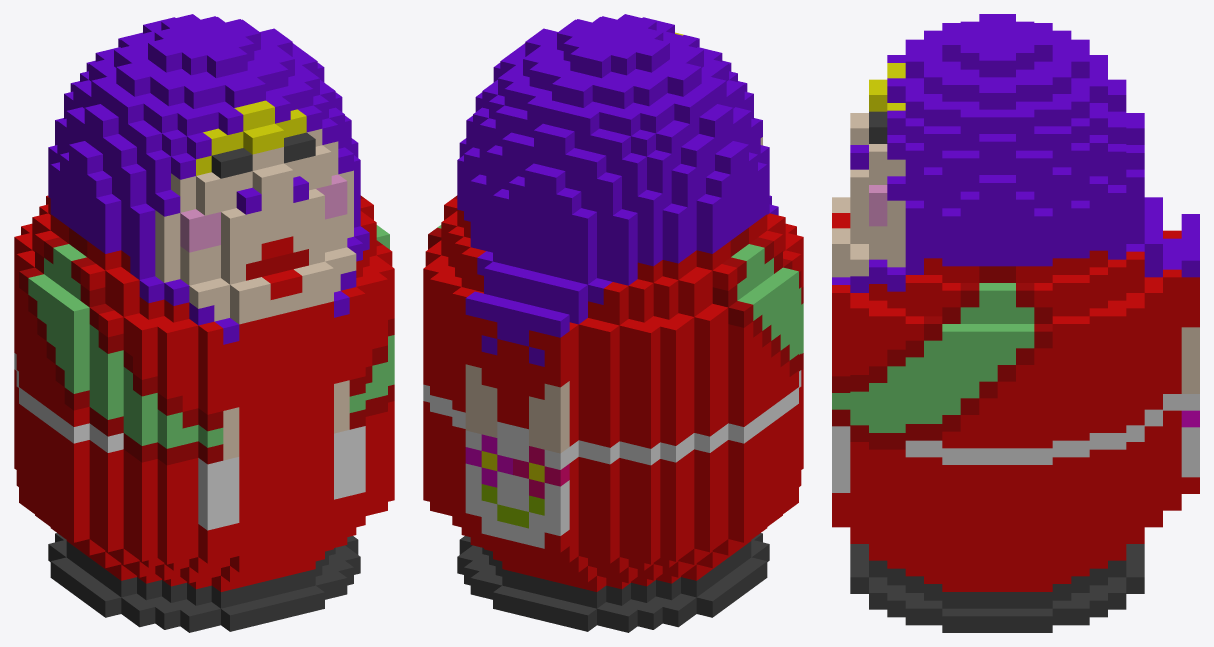
3 views of the same model, side by side, from view 1: azimuth 30°, elevation 25°; view 2: azimuth 150°, elevation 25°; view 3: azimuth 270°, elevation 25° (orthographic).
Bounding box in the file's own units: 1 × 1.6 × 1.
